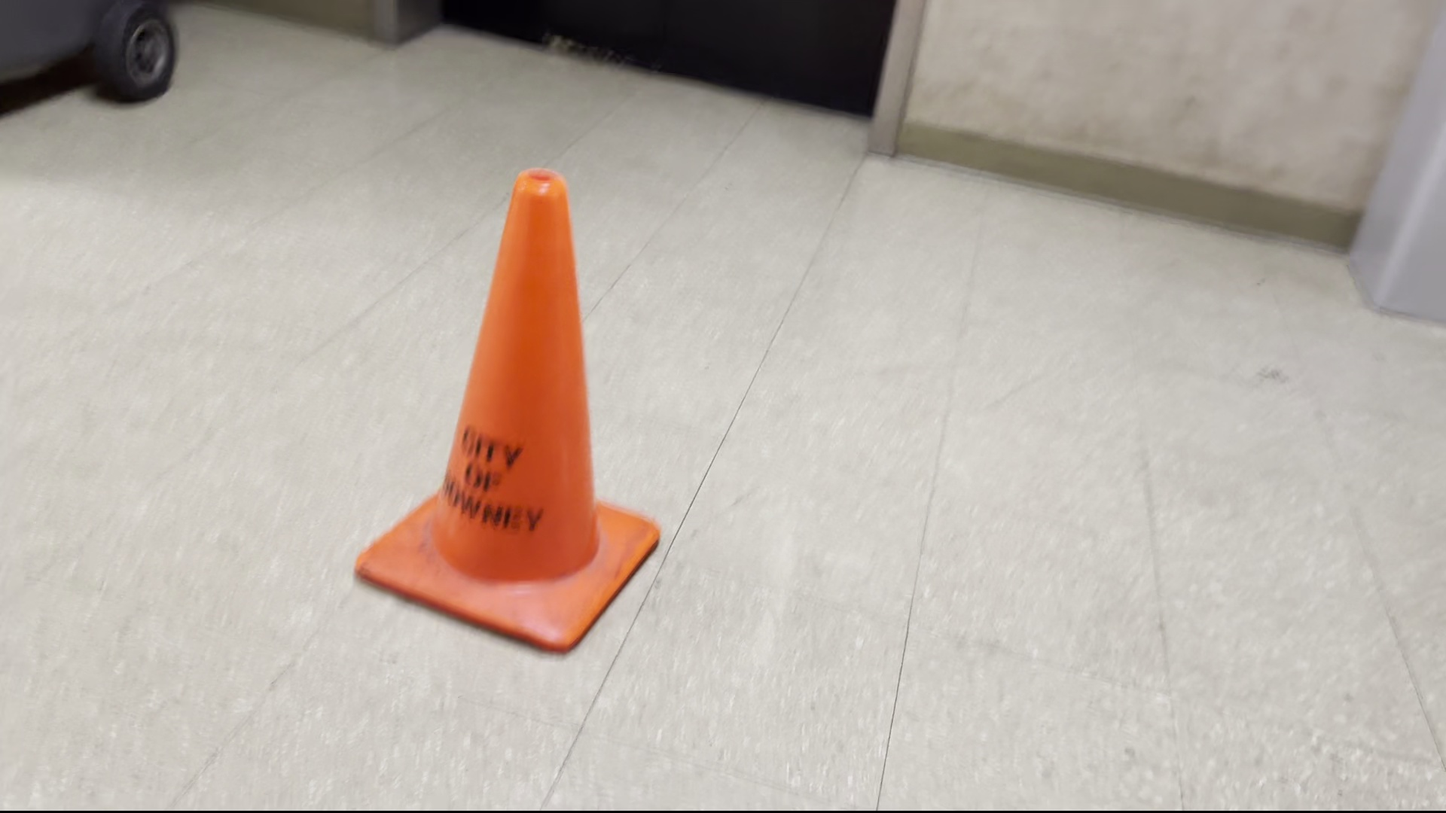traffic_cone: (353, 166, 661, 655)
